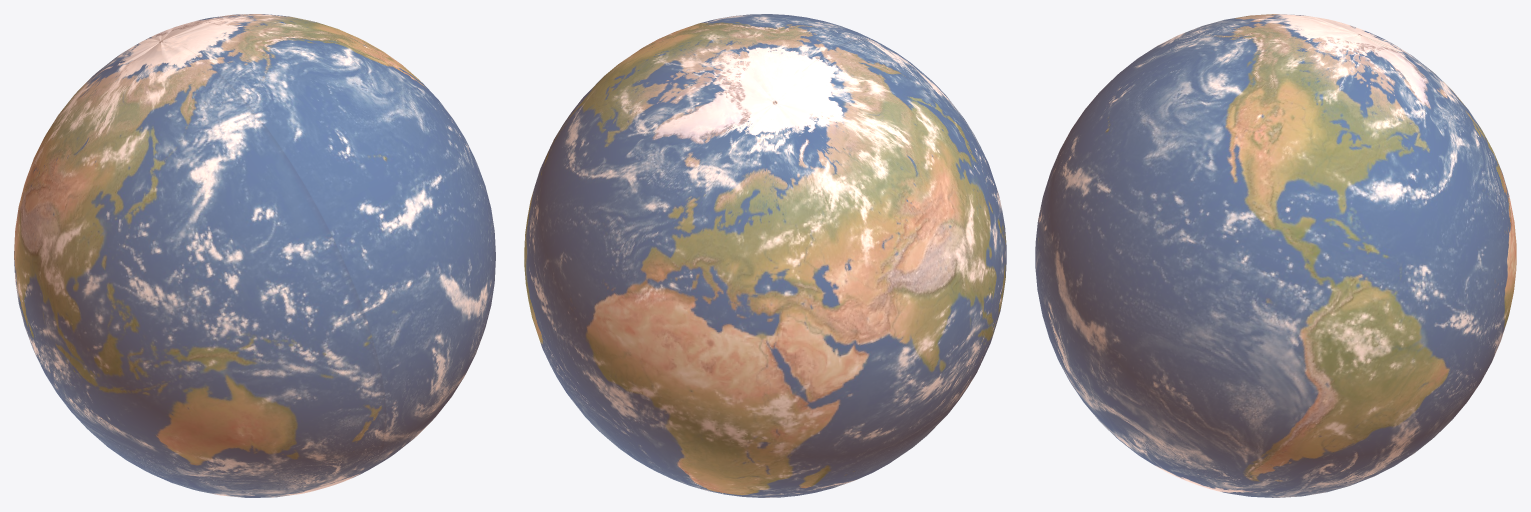
Rendered from earth.gltf.
The picture shows the model from 3 angles, left to right: view 1: azimuth 30°, elevation 25°; view 2: azimuth 150°, elevation 25°; view 3: azimuth 270°, elevation 25°; orthographic projection.
Visible parts, largest first — view 1: Earth; view 2: Earth; view 3: Earth.
Boxes of the visible parts, <box> form: Earth: <box>14,14,495,497</box>; Earth: <box>524,14,1006,497</box>; Earth: <box>1035,14,1516,497</box>.
Size of the model in its own units: 1.97 by 1.98 by 1.97.
Materials: 1 (1 with a texture image).
